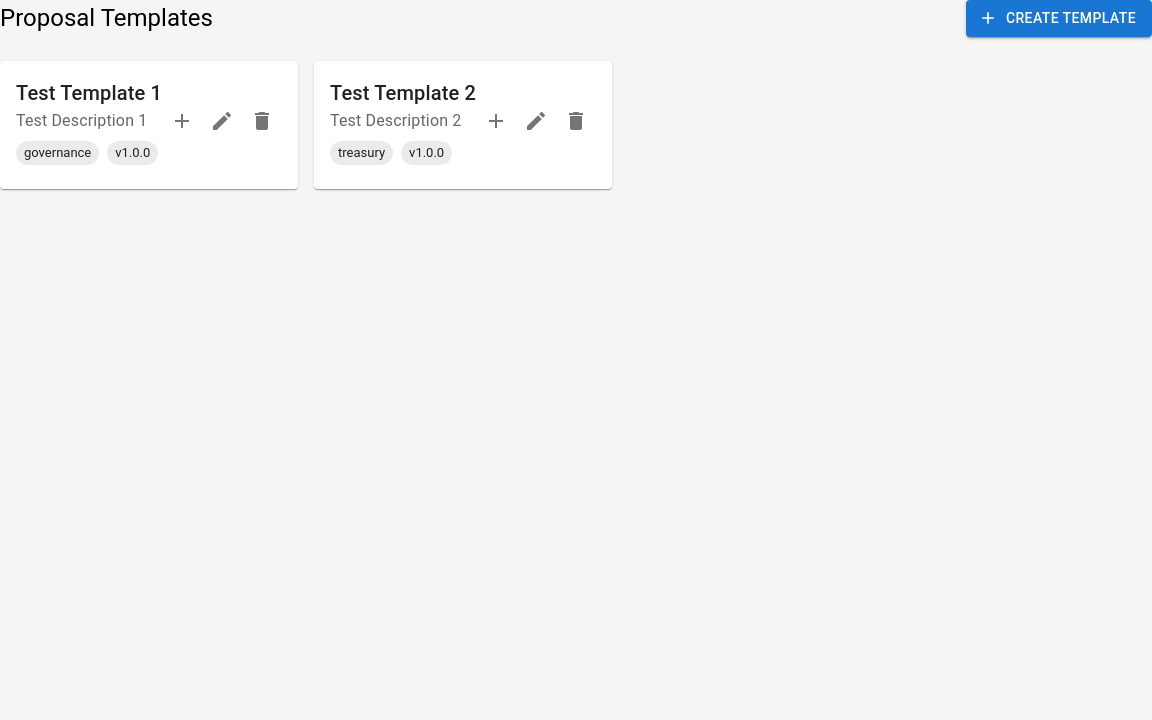
Test case: ProposalTemplateManager › opens edit template dialog when clicking edit button
expect the heading "Test Template 1" is shown: met, box left=16, top=76, right=162, bottom=108
Click the 1st button with test id "EditIcon" at (222, 120), box left=202, top=100, right=242, bottom=140
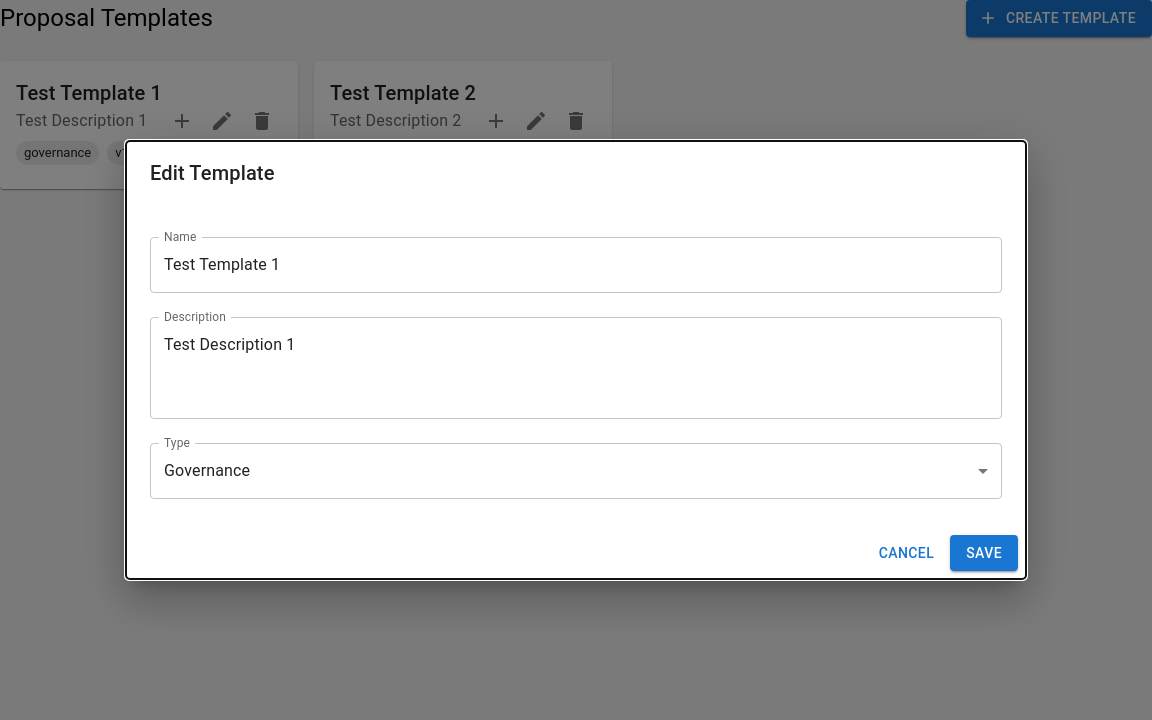
expect the heading "Edit Template" is shown: met, box left=150, top=161, right=275, bottom=185
expect the field labelled "Name" holds "Test Template 1": met, box left=150, top=237, right=1002, bottom=293
